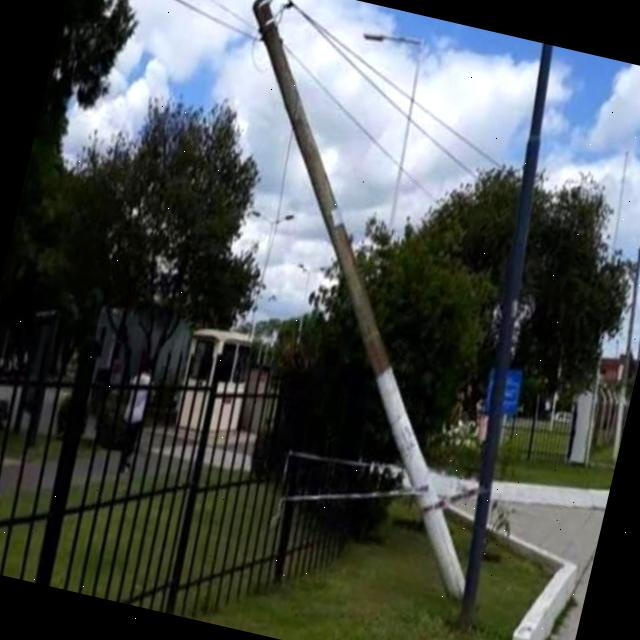Broken Pole: (252, 0, 470, 607)
